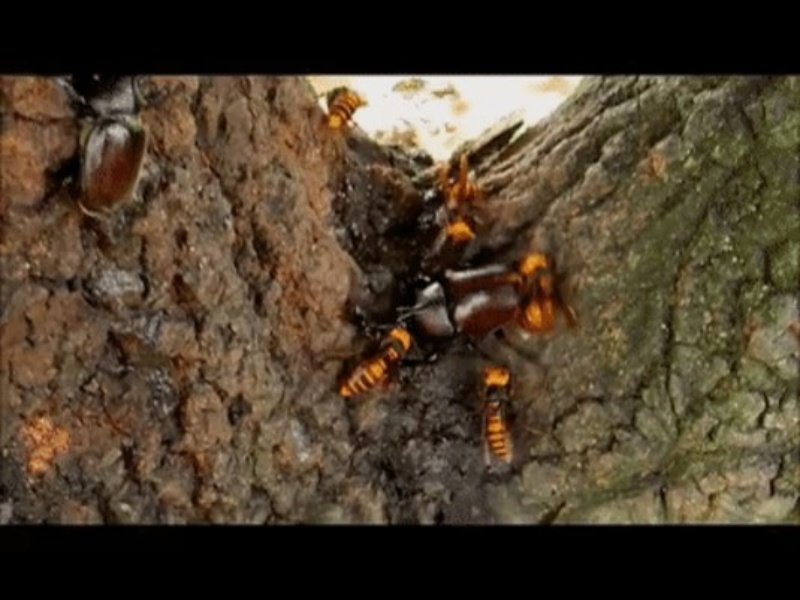asian_giant_hornet: (511, 238, 582, 342), (473, 354, 532, 476), (341, 312, 417, 406), (434, 154, 487, 255), (316, 87, 368, 135)
